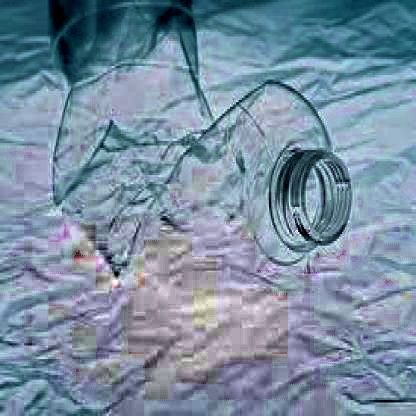pbottle: (36, 2, 357, 284)
